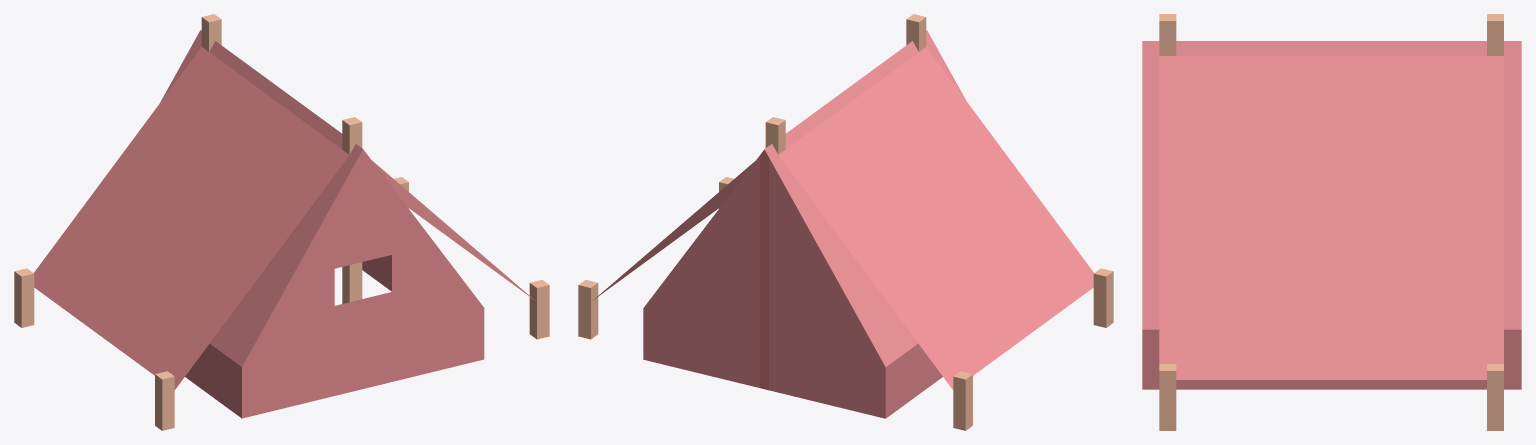
The model's file is tent_detailedClosed.glb.
3 renders of one model, left to right at view 1: azimuth 30°, elevation 25°; view 2: azimuth 150°, elevation 25°; view 3: azimuth 270°, elevation 25°, orthographic. The views are drawn at different scales.
Visible parts, largest first — view 1: tent_detailedClosed; view 2: tent_detailedClosed; view 3: tent_detailedClosed.
Boxes of the visible parts, x1,y1,x2,y2 form: tent_detailedClosed: [14, 14, 549, 430]; tent_detailedClosed: [578, 14, 1113, 430]; tent_detailedClosed: [1142, 14, 1521, 430].
Bounding box in the file's own units: 0.8749 × 0.5611 × 0.6364.
